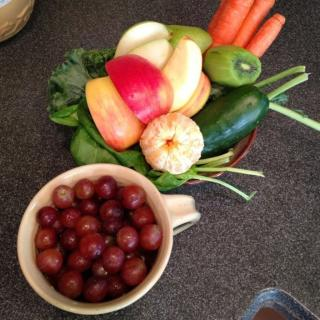tomato: (31, 172, 169, 295)
